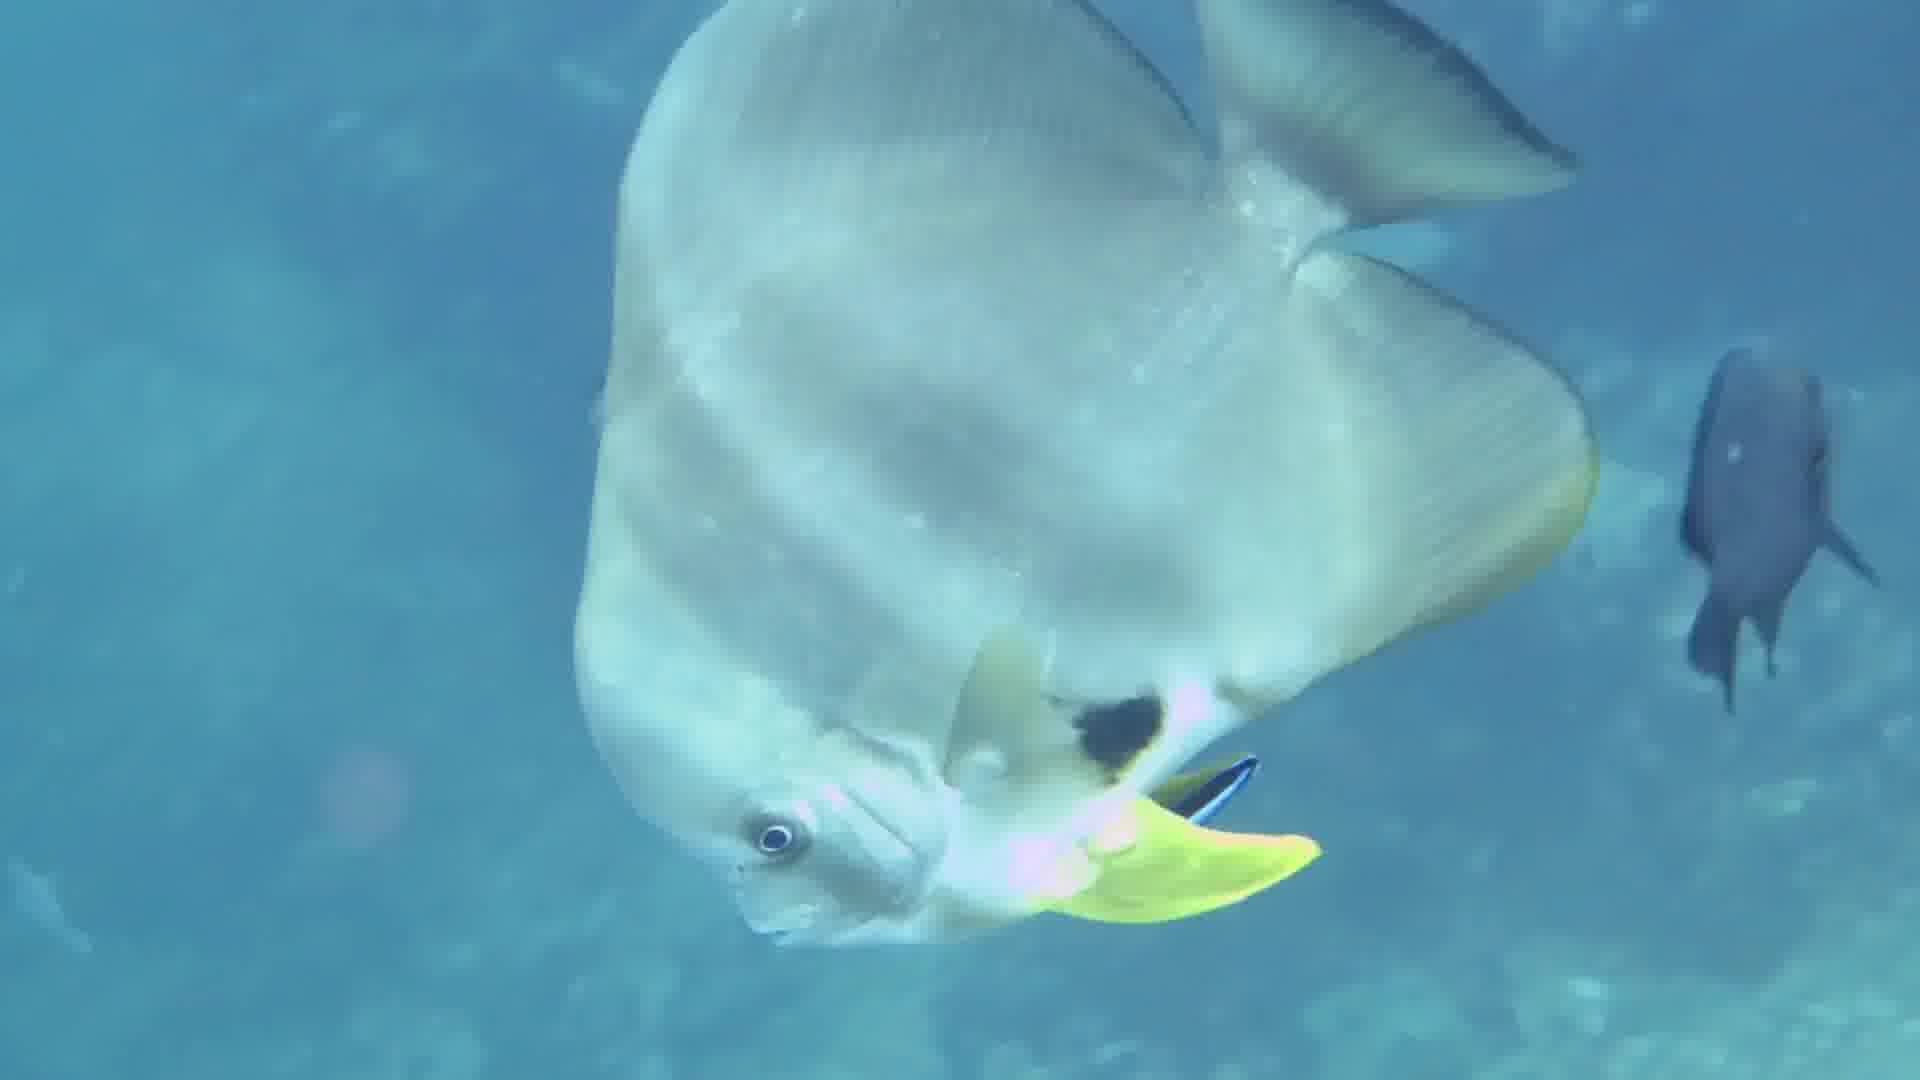Platax teira: (495, 9, 1618, 971)
